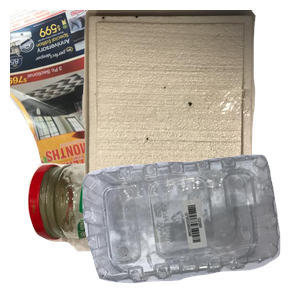glass: (25, 155, 227, 300)
paper: (10, 10, 230, 188)
plastic: (80, 152, 300, 300)
trash: (80, 10, 300, 190)
